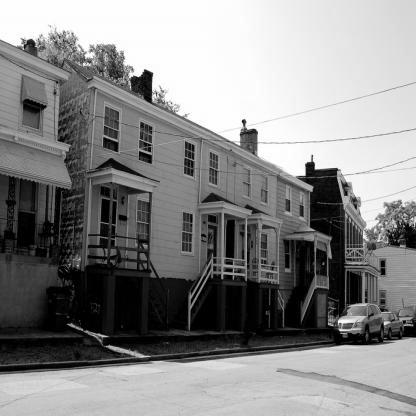car: (321, 297, 383, 350), (386, 304, 404, 344)
